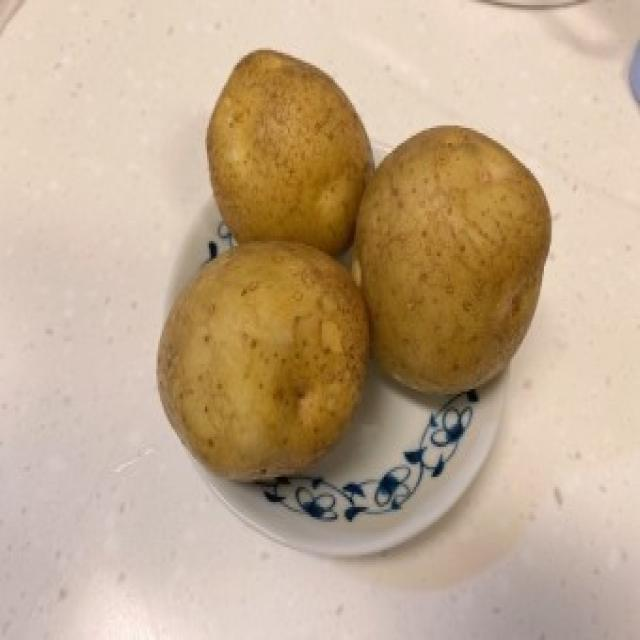potato: (359, 122, 553, 400), (155, 236, 369, 484), (201, 48, 375, 252)
